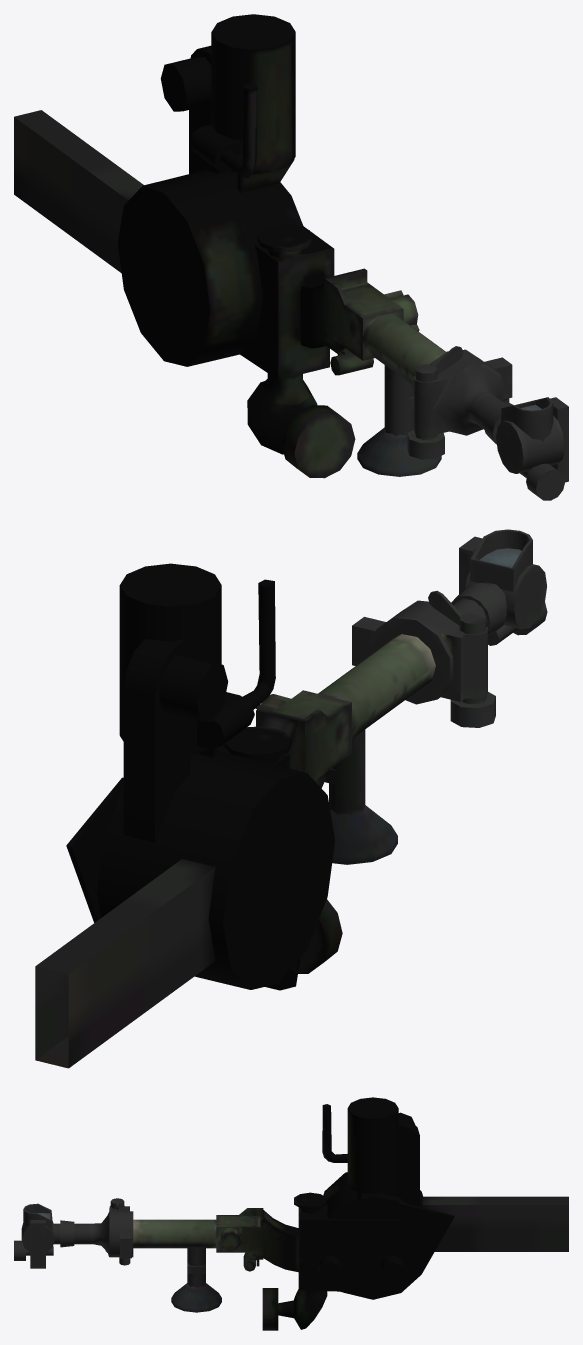
Rendered from Turret_01.glb.
The picture shows the model from 3 angles, top to bottom: view 1: azimuth 30°, elevation 25°; view 2: azimuth 150°, elevation 25°; view 3: azimuth 270°, elevation 25°; orthographic projection. The views are drawn at different scales.
Visible parts, largest first — view 1: set_0_group_0; view 2: set_0_group_0; view 3: set_0_group_0.
Boxes of the visible parts, x1,y1,x2,y2 form: set_0_group_0: (14,14,568,500); set_0_group_0: (35,529,547,1068); set_0_group_0: (14,1097,568,1330).
Size of the model in its own units: 0.1238 by 0.3185 by 0.7079.
Materials: 1 (1 with a texture image).
